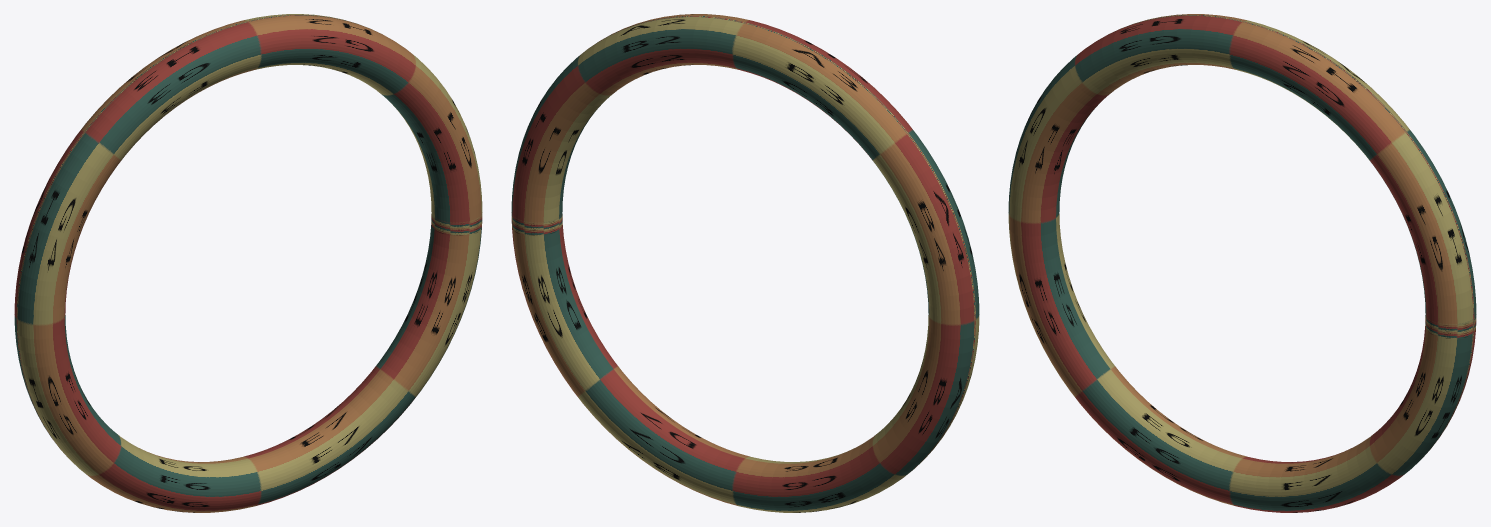
The model's file is texture_torus_R4_r0.glb.
The picture shows the model from 3 angles, left to right: view 1: azimuth 30°, elevation 25°; view 2: azimuth 150°, elevation 25°; view 3: azimuth 330°, elevation 25°; orthographic projection.
Parts seen in each view (by area): view 1: world; view 2: world; view 3: world.
Part boxes in pixels (x1,y1,x2,y2): world: [14, 14, 482, 512]; world: [511, 14, 979, 512]; world: [1008, 14, 1476, 512].
Size of the model in its own units: 20.89 by 20.89 by 2.
1 material, 1 textured.
